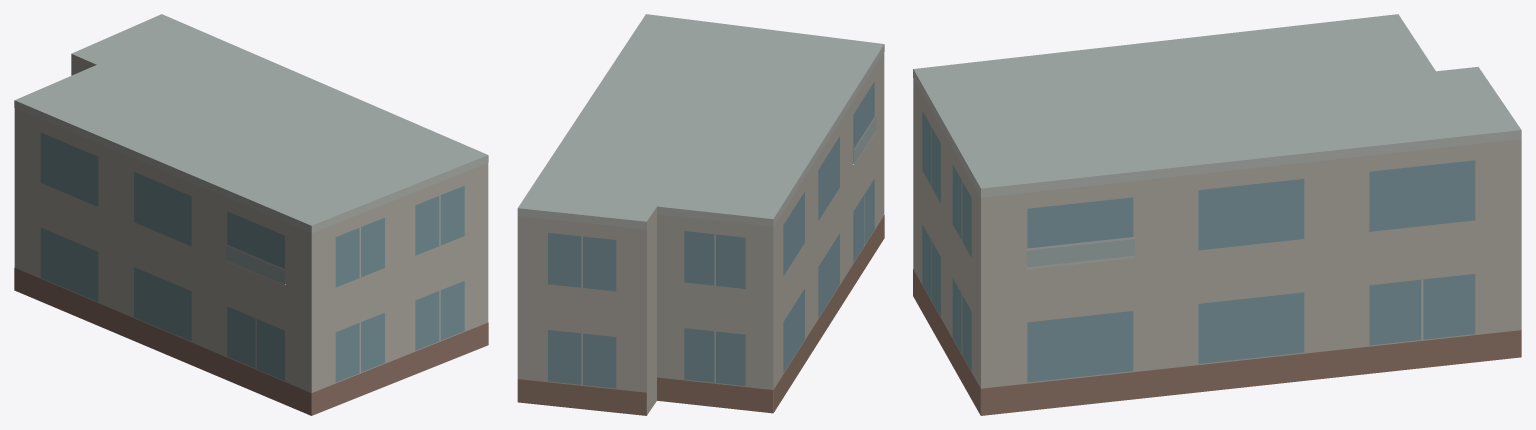
The model's file is survey-upis-32911673.glb.
The picture shows the model from 3 angles, left to right: view 1: azimuth 30°, elevation 25°; view 2: azimuth 150°, elevation 25°; view 3: azimuth 270°, elevation 25°; orthographic projection. The views are drawn at different scales.
Visible parts, largest first — view 1: survey-upis-32911673.tmp; view 2: survey-upis-32911673.tmp; view 3: survey-upis-32911673.tmp.
Boxes of the visible parts, bbox=[...] form: survey-upis-32911673.tmp: bbox=[14, 14, 488, 415]; survey-upis-32911673.tmp: bbox=[517, 14, 884, 415]; survey-upis-32911673.tmp: bbox=[913, 14, 1521, 415].
Bounding box in the file's own units: 10.06 × 6.1 × 14.81.
